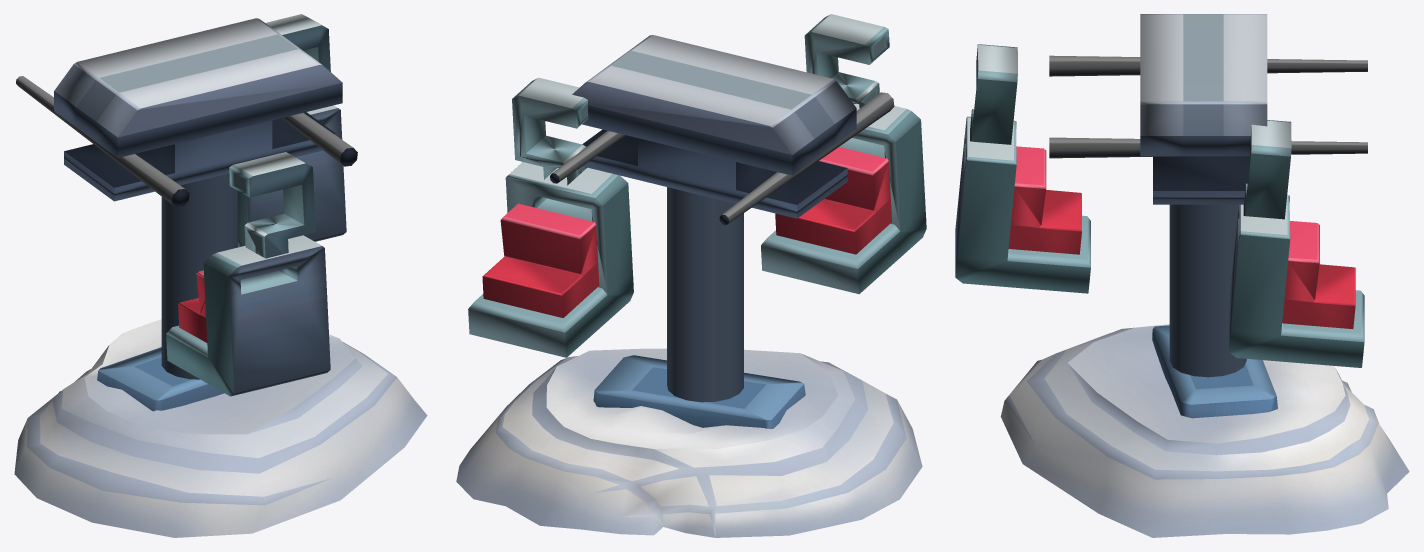
Rendered from AlpineRunOdysseyStatue.fbx.
3 renders of one model, left to right at view 1: azimuth 30°, elevation 25°; view 2: azimuth 150°, elevation 25°; view 3: azimuth 270°, elevation 25°, orthographic.
Parts seen in each view (by area): view 1: alpineBase, alpineSeat01, alpineSeat02; view 2: alpineBase, alpineSeat02, alpineSeat01; view 3: alpineBase, alpineSeat01, alpineSeat02.
Boxes of the visible parts, x1,y1,x2,y2 form: alpineBase: [14, 18, 427, 537]; alpineSeat01: [166, 152, 330, 396]; alpineSeat02: [238, 14, 346, 247]; alpineBase: [456, 35, 922, 537]; alpineSeat02: [468, 77, 633, 357]; alpineSeat01: [761, 14, 926, 294]; alpineBase: [1000, 14, 1409, 537]; alpineSeat01: [955, 44, 1090, 293]; alpineSeat02: [1229, 120, 1364, 367].
Size of the model in its own units: 17.19 by 16.7 by 17.99.
1 material, 1 textured.
